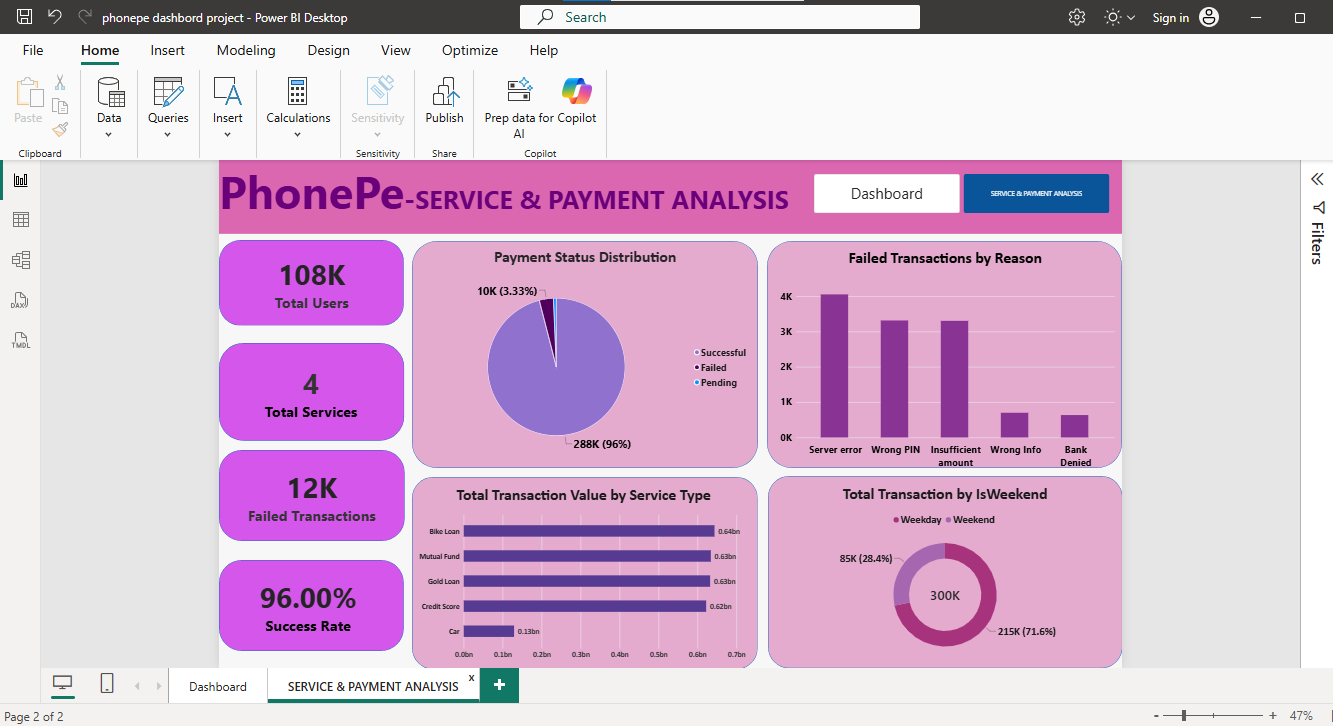

This screenshot's page, from the dashboard's own definition file:
{"tool":"powerbi","page":{"name":"SERVICE & PAYMENT ANALYSIS","canvas":[1920,1080],"ordinal":1},"visuals":[{"type":"textbox","box":[0,0,1919.8,157.3],"z":0},{"type":"shape","box":[0,170.3,392.9,181.9],"z":1000},{"type":"shape","box":[0,389,393.8,207.6],"z":2000},{"type":"shape","box":[0,615.5,394.8,193.5],"z":3000},{"type":"shape","box":[0,849.7,392.9,193.5],"z":4000},{"type":"card","fields":{"Values":["All_Measures.Total Users"]},"box":[0,172.3,394.8,180],"z":5000},{"type":"card","fields":{"Values":["All_Measures.Total Services"]},"box":[13.5,389,365.8,207.1],"z":6000},{"type":"card","fields":{"Values":["All_Measures.Failed Transactions"]},"box":[0,615.5,394.8,193.5],"z":7000},{"type":"card","fields":{"Values":["All_Measures.Success Rate"]},"box":[0,849.7,379.4,193.5],"z":8000},{"type":"shape","box":[410.3,172.2,735.6,482.6],"z":9000},{"type":"shape","box":[1165,172.2,754.7,482.6],"z":10000},{"type":"shape","box":[410.8,673,735,408.8],"z":11000},{"type":"pageNavigator","box":[1265.8,29,629,83.2],"z":12000},{"type":"pieChart","title":"Payment Status Distribution","fields":{"Category":["All_Transactions.Payment_Status"],"Y":["All_Measures.Total Transaction"]},"box":[410.1,169.2,735.7,484.5],"z":13000},{"type":"columnChart","fields":{"Category":["All_Transactions.Reason"],"Y":["All_Measures.Failed Transactions"]},"box":[1166.5,171.4,753.5,501.7],"z":14000},{"type":"shape","box":[1166.5,671,753.5,408.8],"z":15000},{"type":"donutChart","fields":{"Category":["Date Table.IsWeekend"],"Y":["All_Measures.Total Transaction"]},"box":[1167.1,673.5,752.9,406.5],"z":16000},{"type":"clusteredBarChart","fields":{"Category":["All_Transactions.Service Type"],"Y":["All_Measures.Total Transaction Value"]},"box":[408.8,676.4,734.2,404.5],"z":17000}]}

Visuals, with their boxes on the page's 1920x1080 design canvas (x1, y1, x2, y2). These are canvas units, not pixel positions in the 1333x726 screenshot, which may show the page scaled, cropped or inside an application window:
textbox: 0 0 1920 157
shape: 0 170 393 352
shape: 0 389 394 597
shape: 0 616 395 809
shape: 0 850 393 1043
card - All_Measures.Total Users: 0 172 395 352
card - All_Measures.Total Services: 14 389 379 596
card - All_Measures.Failed Transactions: 0 616 395 809
card - All_Measures.Success Rate: 0 850 379 1043
shape: 410 172 1146 655
shape: 1165 172 1920 655
shape: 411 673 1146 1082
pageNavigator: 1266 29 1895 112
"Payment Status Distribution" pieChart: 410 169 1146 654
columnChart - All_Transactions.Reason x All_Measures.Failed Transactions: 1166 171 1920 673
shape: 1166 671 1920 1080
donutChart - Date Table.IsWeekend x All_Measures.Total Transaction: 1167 674 1920 1080
clusteredBarChart - All_Transactions.Service Type x All_Measures.Total Transaction Value: 409 676 1143 1081
